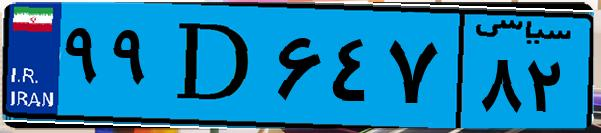2: (525, 38, 570, 115)
4: (330, 28, 385, 110)
6: (270, 28, 330, 110)
7: (385, 28, 445, 110)
8: (475, 38, 525, 113)
9: (57, 26, 110, 100), (110, 28, 158, 98)
D: (158, 12, 270, 120)
